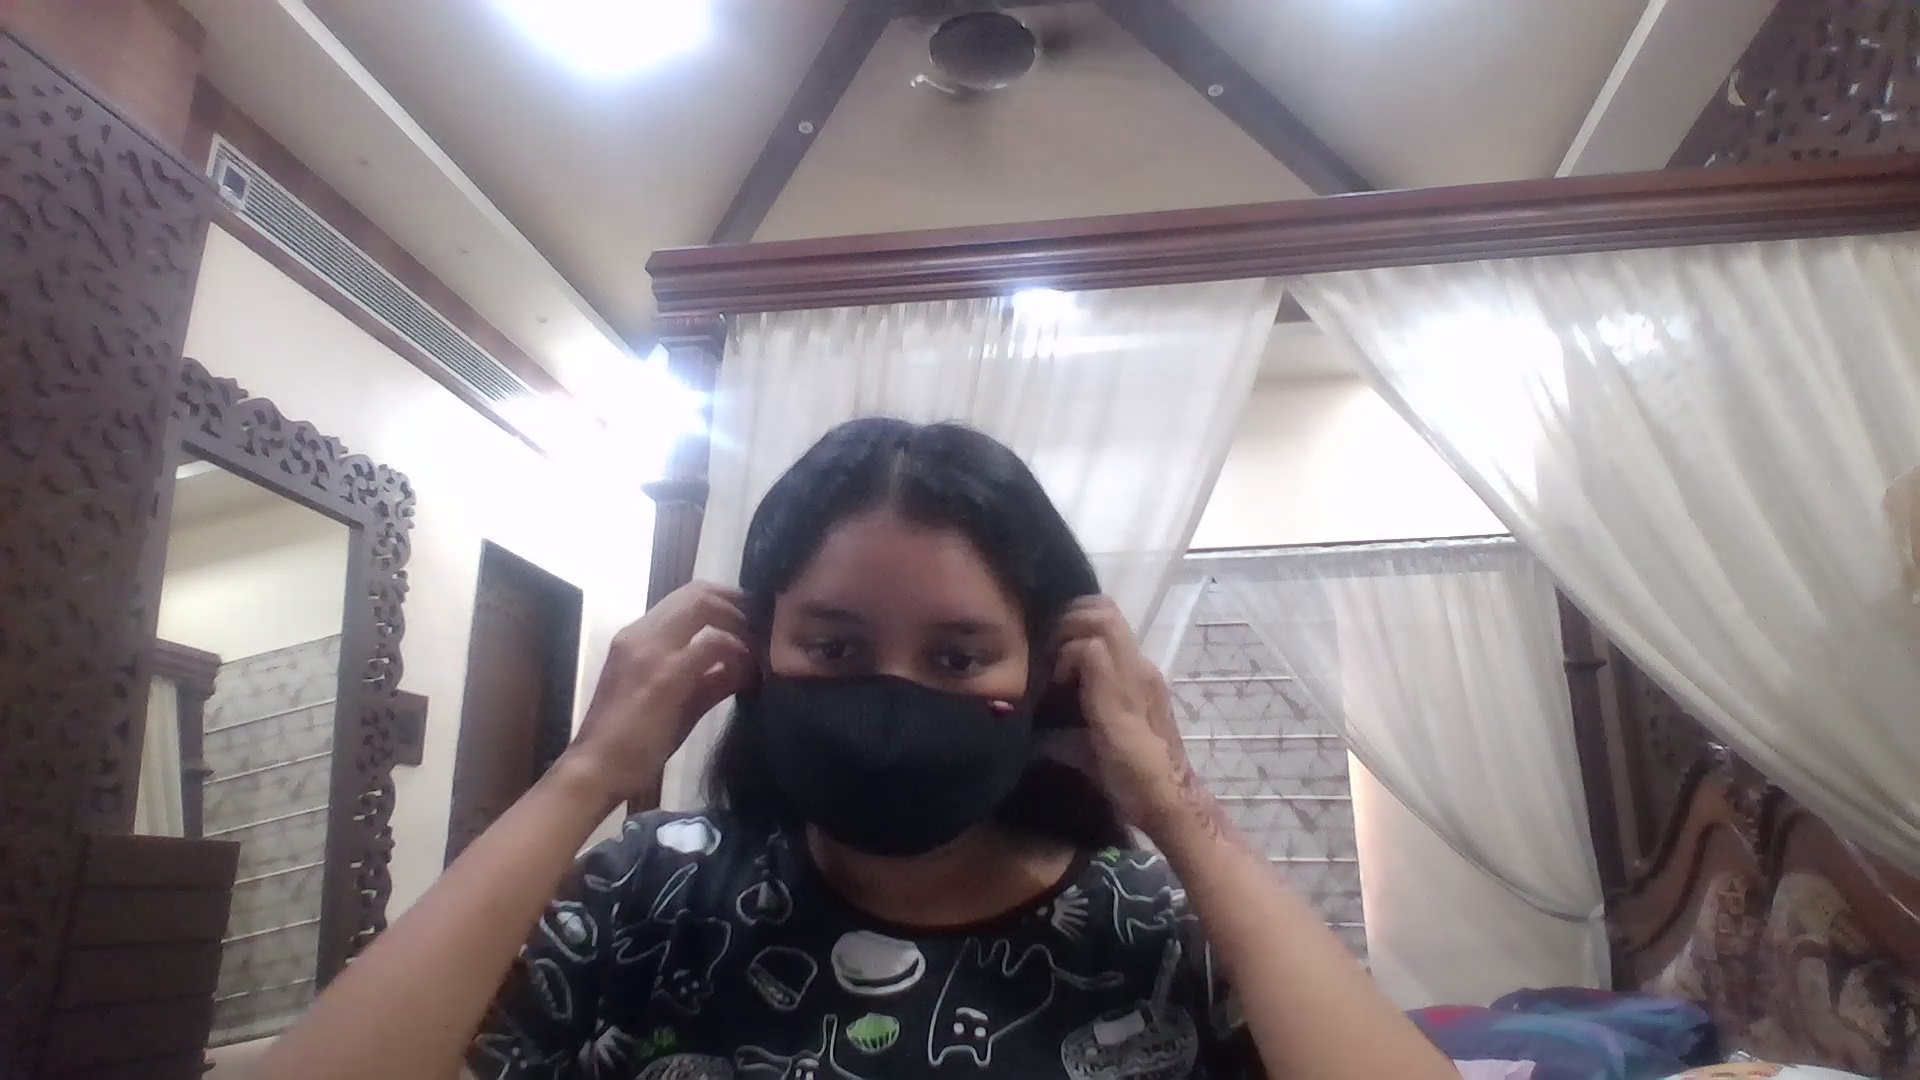Mask: (754, 680, 1010, 863)
